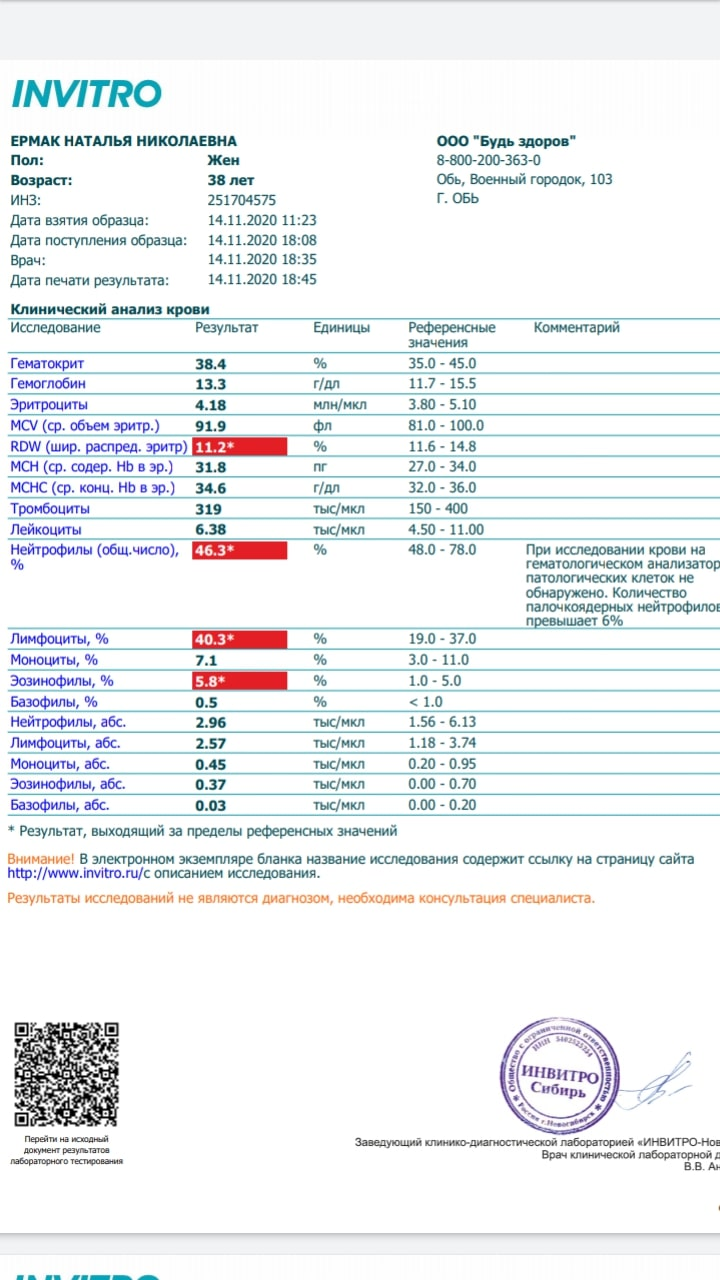column: (525, 318, 720, 815), (9, 318, 187, 815), (407, 318, 497, 815), (194, 318, 259, 815), (312, 318, 371, 815)
